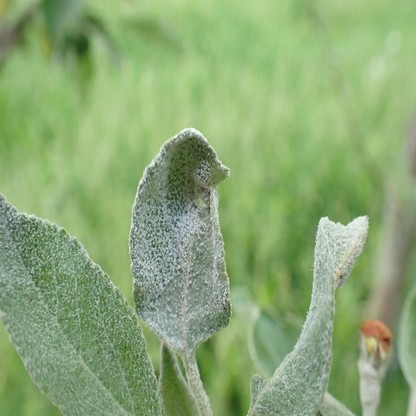powder: (1, 190, 162, 416), (248, 212, 370, 416), (130, 129, 231, 355)
